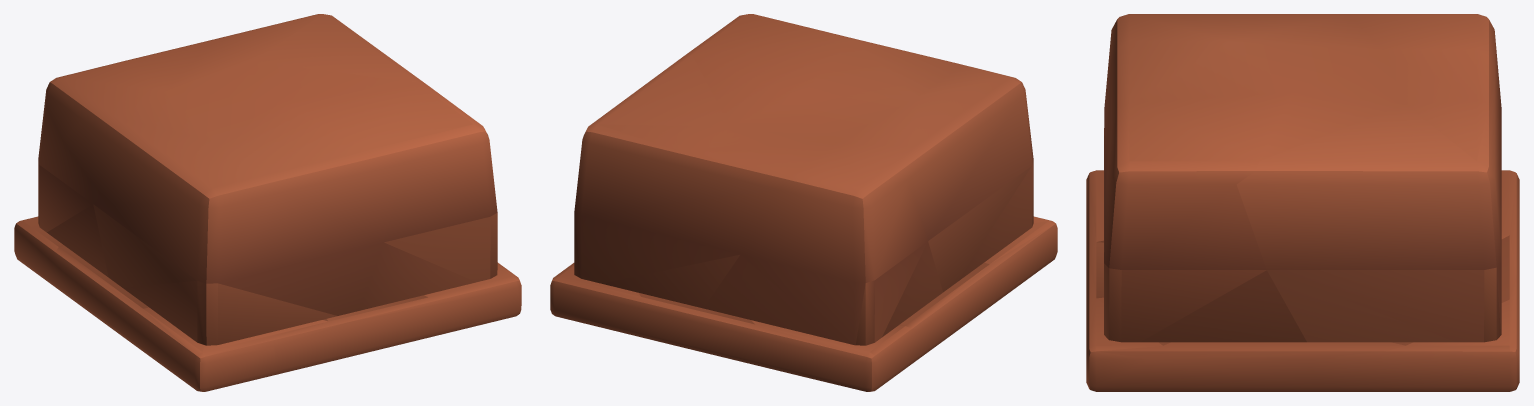
Rendered from mire_planter_lod1.glb.
The picture shows the model from 3 angles, left to right: view 1: azimuth 30°, elevation 25°; view 2: azimuth 150°, elevation 25°; view 3: azimuth 270°, elevation 25°; orthographic projection. The views are drawn at different scales.
Parts seen in each view (by area): view 1: mire_planter.001; view 2: mire_planter.001; view 3: mire_planter.001.
Part boxes in pixels (box(x1,y1,x2,y2)): mire_planter.001: box(14, 14, 521, 391); mire_planter.001: box(550, 14, 1057, 391); mire_planter.001: box(1086, 14, 1519, 391).
Bounding box in the file's own units: 12.01 × 6.62 × 12.
